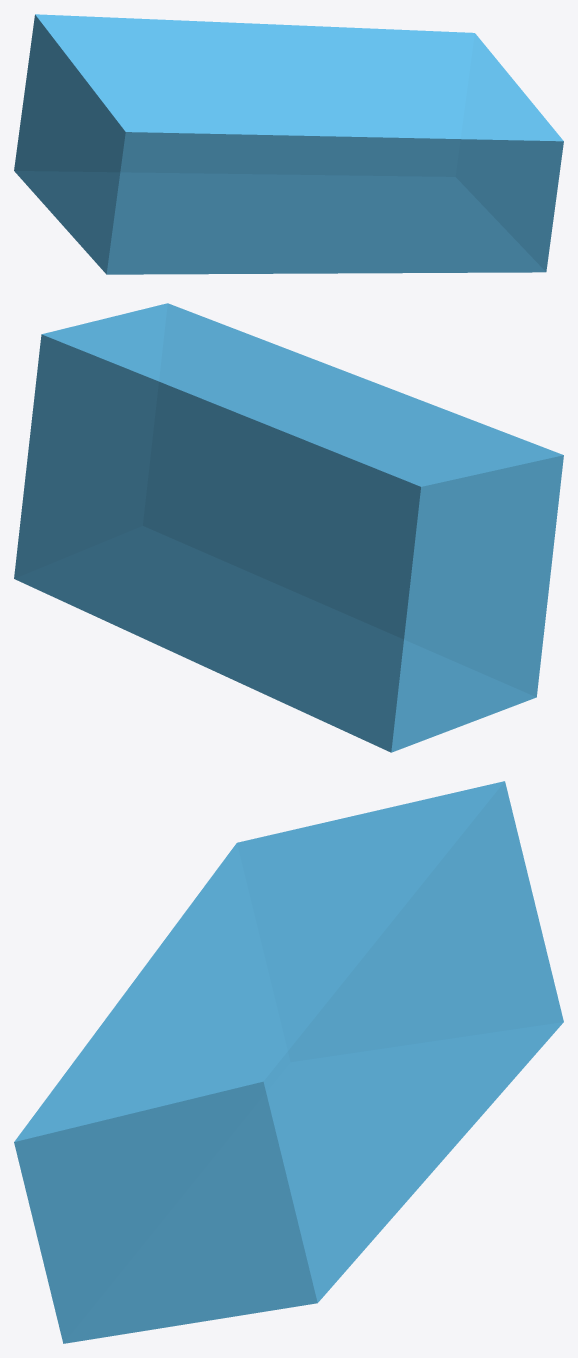
Rendered from Event_421115418_HErechit_3.fbx.
3 views of the same model, one above another, from view 1: azimuth 30°, elevation 25°; view 2: azimuth 150°, elevation 25°; view 3: azimuth 270°, elevation 25° (orthographic). The views are drawn at different scales.
Visible parts, largest first — view 1: Model; view 2: Model; view 3: Model.
Part boxes in pixels (x1,y1,x2,y2): Model: (14,14,563,274); Model: (14,303,563,752); Model: (14,781,563,1343).
Size of the model in its own units: 0.898 by 0.5479 by 0.8509.
